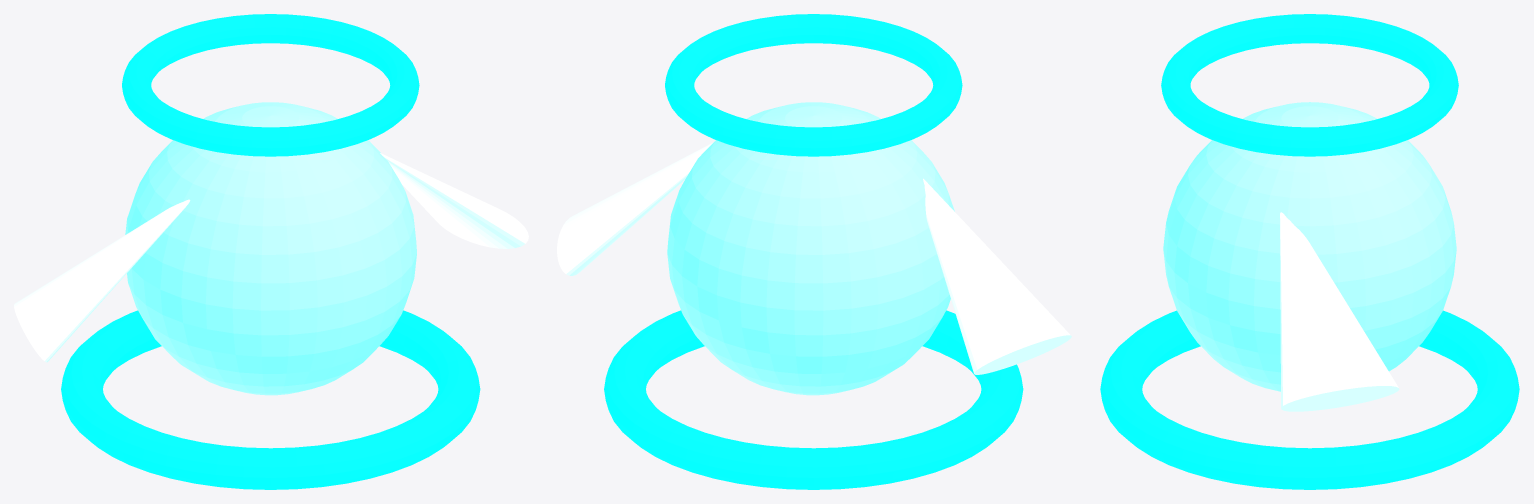
File: powerup-bombpass.glb
3 views of the same model, side by side, from view 1: azimuth 30°, elevation 25°; view 2: azimuth 150°, elevation 25°; view 3: azimuth 270°, elevation 25° (orthographic).
Parts seen in each view (by area): view 1: Sphere, Torus.001, Torus, Cone, Cone.001; view 2: Sphere, Torus.001, Torus, Cone, Cone.001; view 3: Sphere, Torus.001, Torus, Cone.001.
Part boxes in pixels (x1,y1,x2,y2): Sphere: (125, 102, 416, 395); Torus.001: (61, 310, 480, 489); Torus: (122, 14, 419, 156); Cone: (14, 199, 190, 362); Cone.001: (380, 153, 528, 248); Sphere: (667, 102, 954, 395); Torus.001: (604, 310, 1023, 489); Torus: (665, 14, 962, 156); Cone: (923, 178, 1071, 374); Cone.001: (557, 142, 713, 275); Sphere: (1163, 102, 1456, 391); Torus.001: (1100, 310, 1519, 489); Torus: (1161, 14, 1458, 156); Cone.001: (1280, 212, 1399, 411).
Bounding box in the file's own units: 1.35 × 0.885 × 1.
